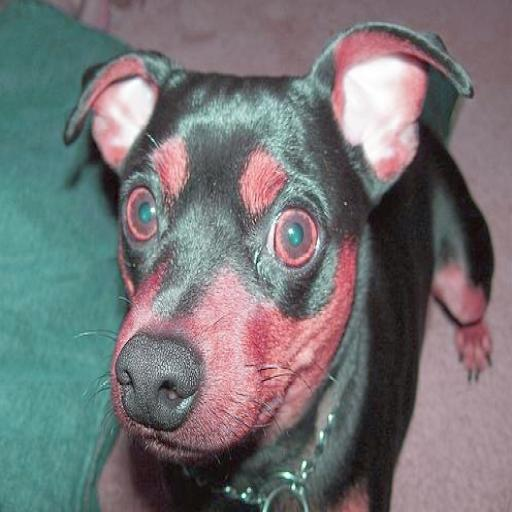dog_face: (69, 23, 449, 456)
